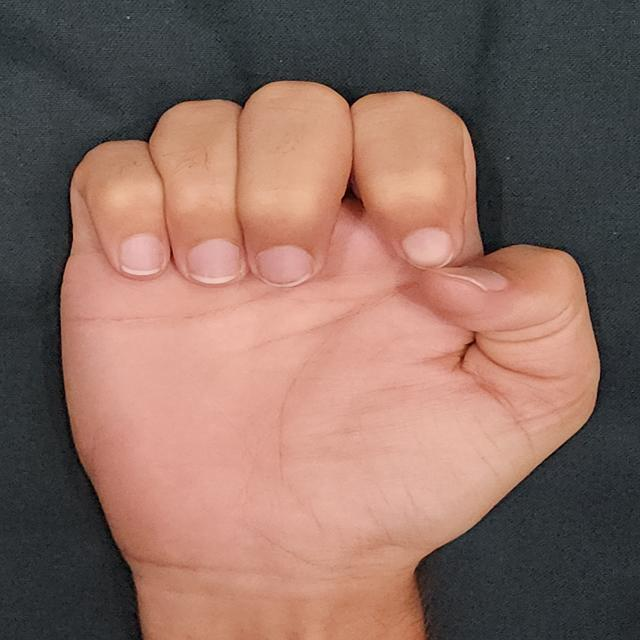ذ: (38, 57, 617, 592)
